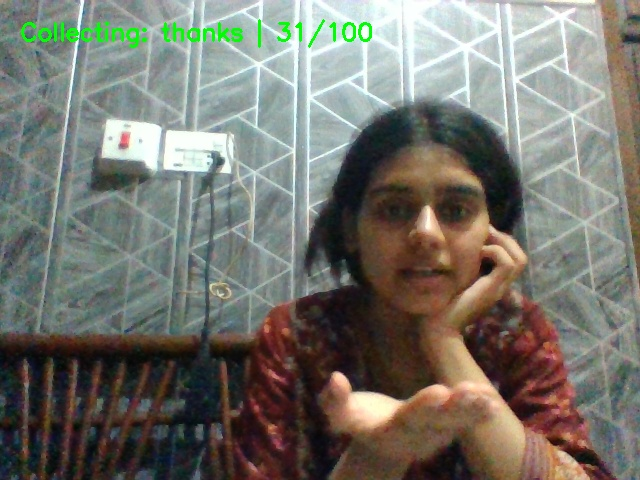thanks: (300, 343, 509, 480)
